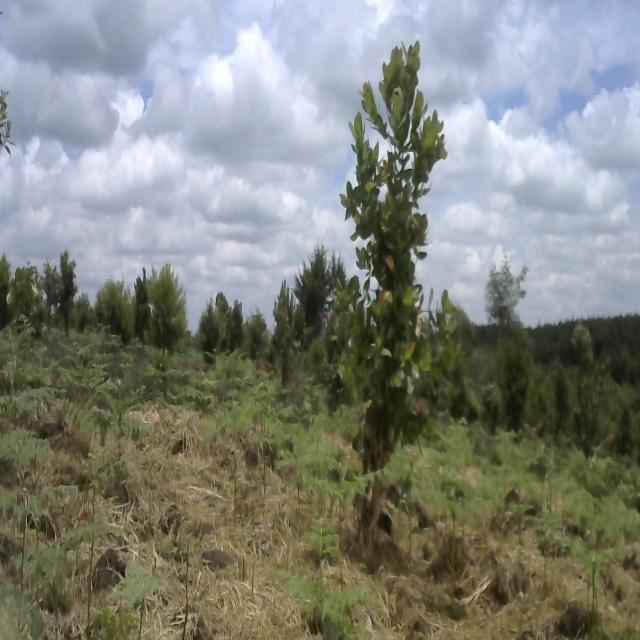cedrus: (145, 262, 188, 364), (298, 237, 332, 326), (264, 272, 297, 354)
other: (335, 39, 450, 517)
